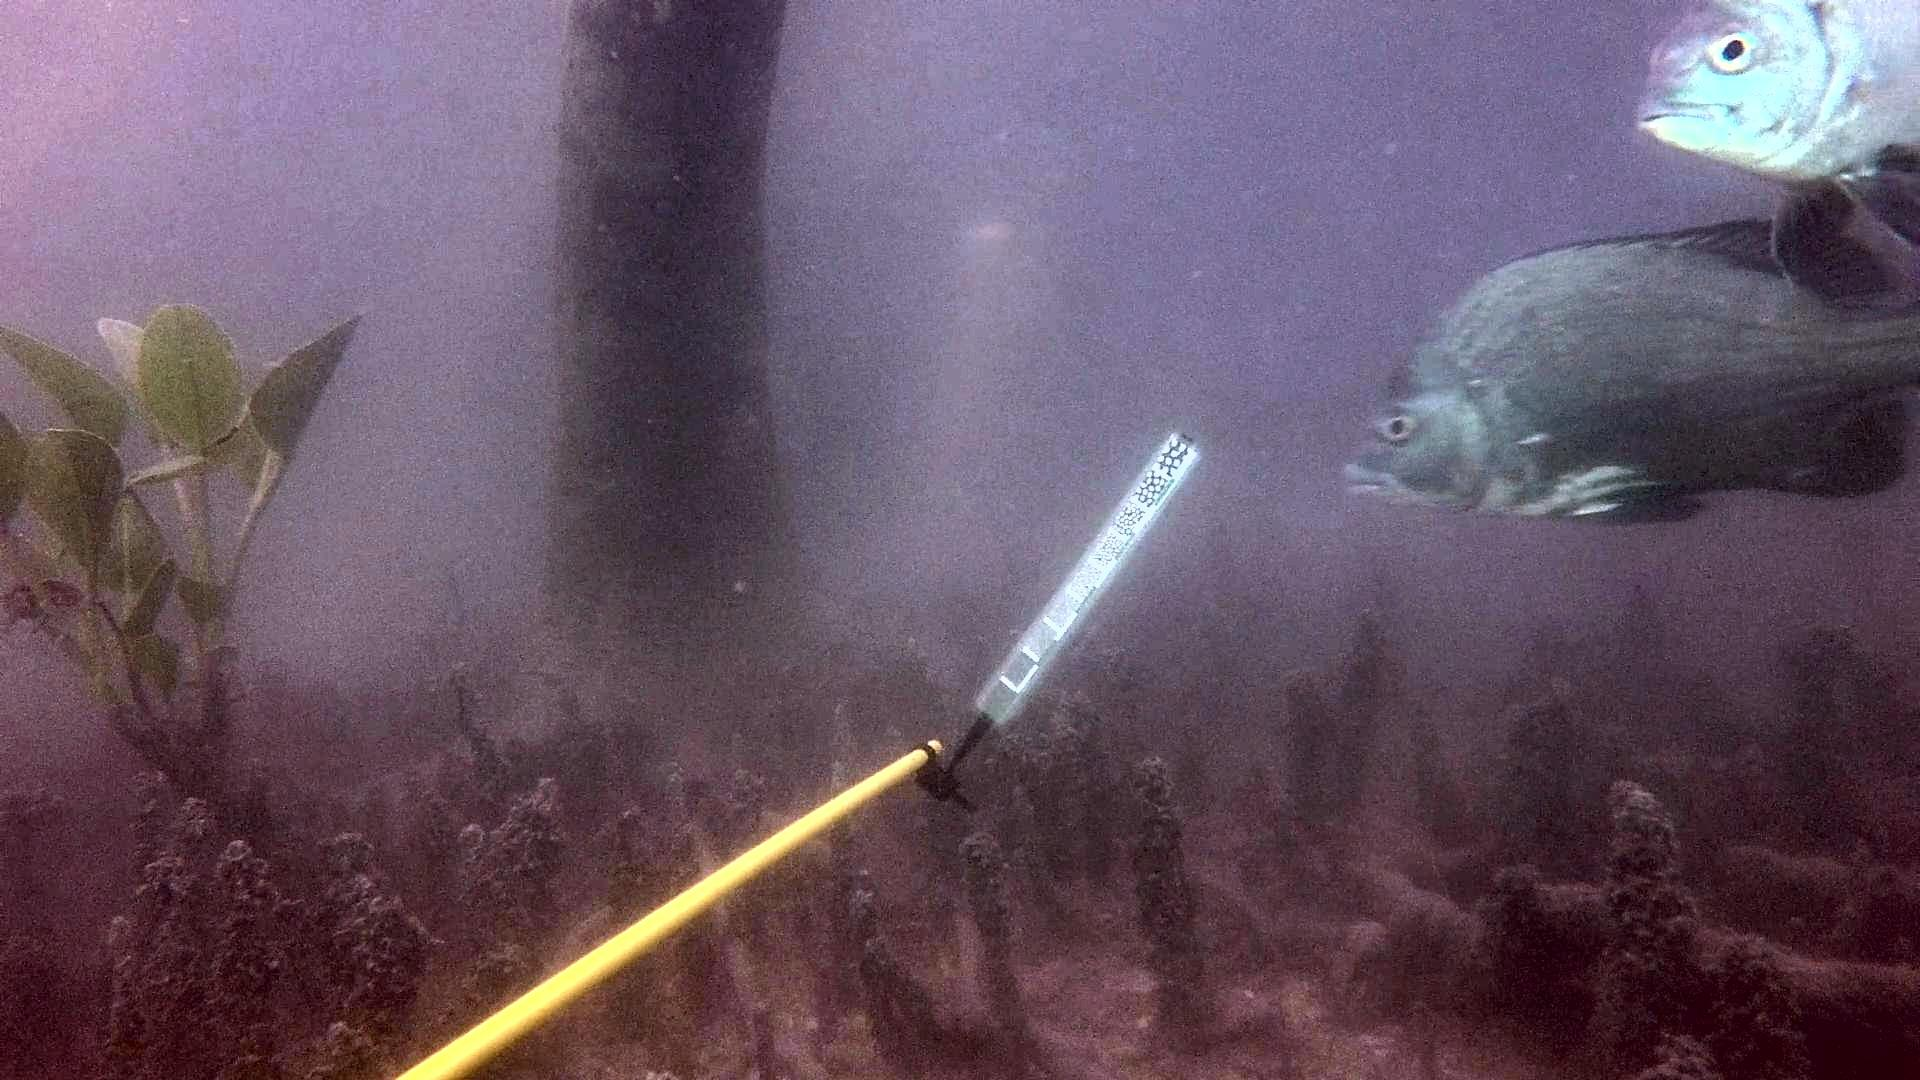acanthopagrus palmaris: (1330, 203, 1920, 536), (1618, 0, 1920, 306)
